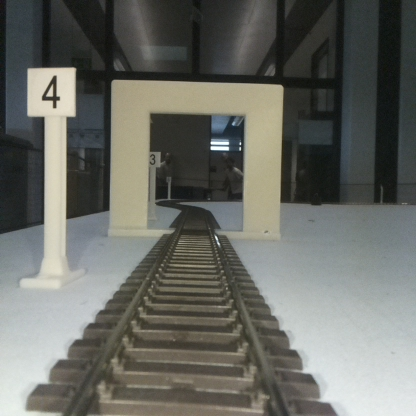white-info-4: (27, 68, 75, 286)
